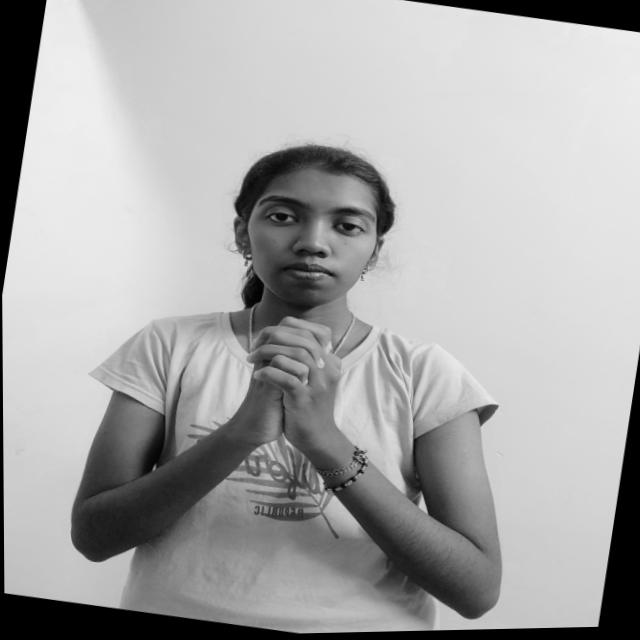Sorry: (218, 304, 363, 466)
